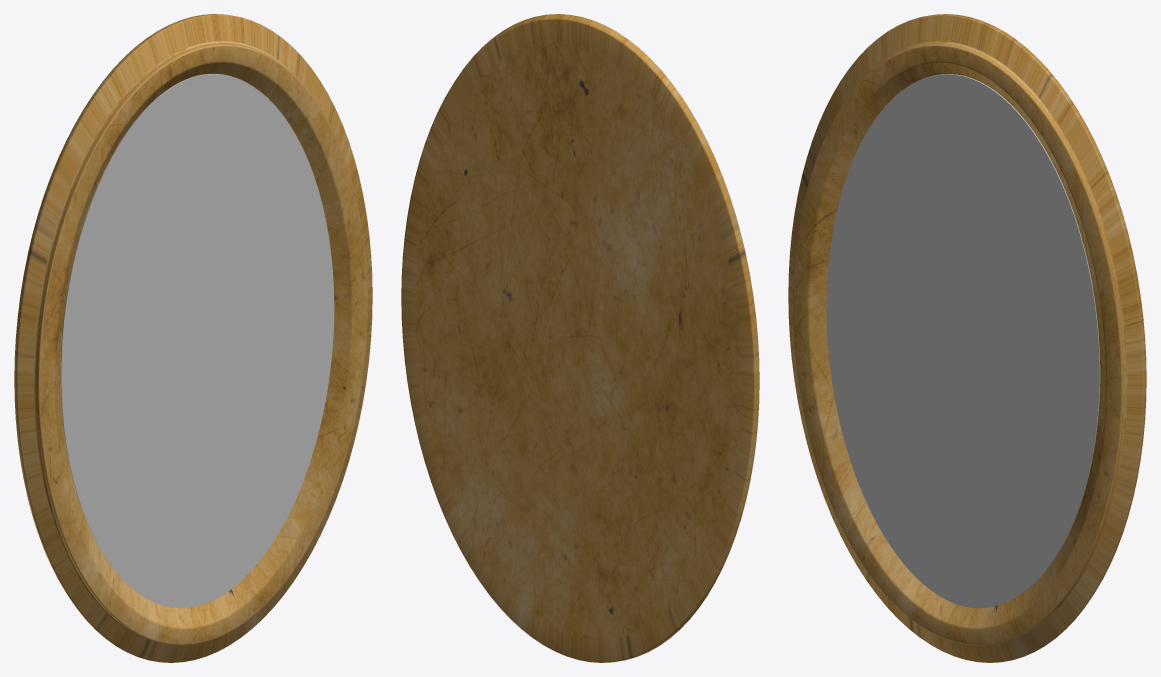
File: Vanity_Mirror.fbx
3 views of the same model, side by side, from view 1: azimuth 30°, elevation 25°; view 2: azimuth 150°, elevation 25°; view 3: azimuth 330°, elevation 25° (orthographic).
Parts seen in each view (by area): view 1: Cylinder_1, Cylinder; view 2: Cylinder; view 3: Cylinder_1, Cylinder.
Boxes of the visible parts, left/top/right/bottom form: Cylinder_1: left=60, top=74, right=334, bottom=607; Cylinder: left=14, top=14, right=372, bottom=662; Cylinder: left=401, top=14, right=759, bottom=662; Cylinder_1: left=826, top=74, right=1100, bottom=607; Cylinder: left=788, top=14, right=1146, bottom=662.
Size of the model in its own units: 278 by 480 by 17.15.
2 materials, 1 textured.
